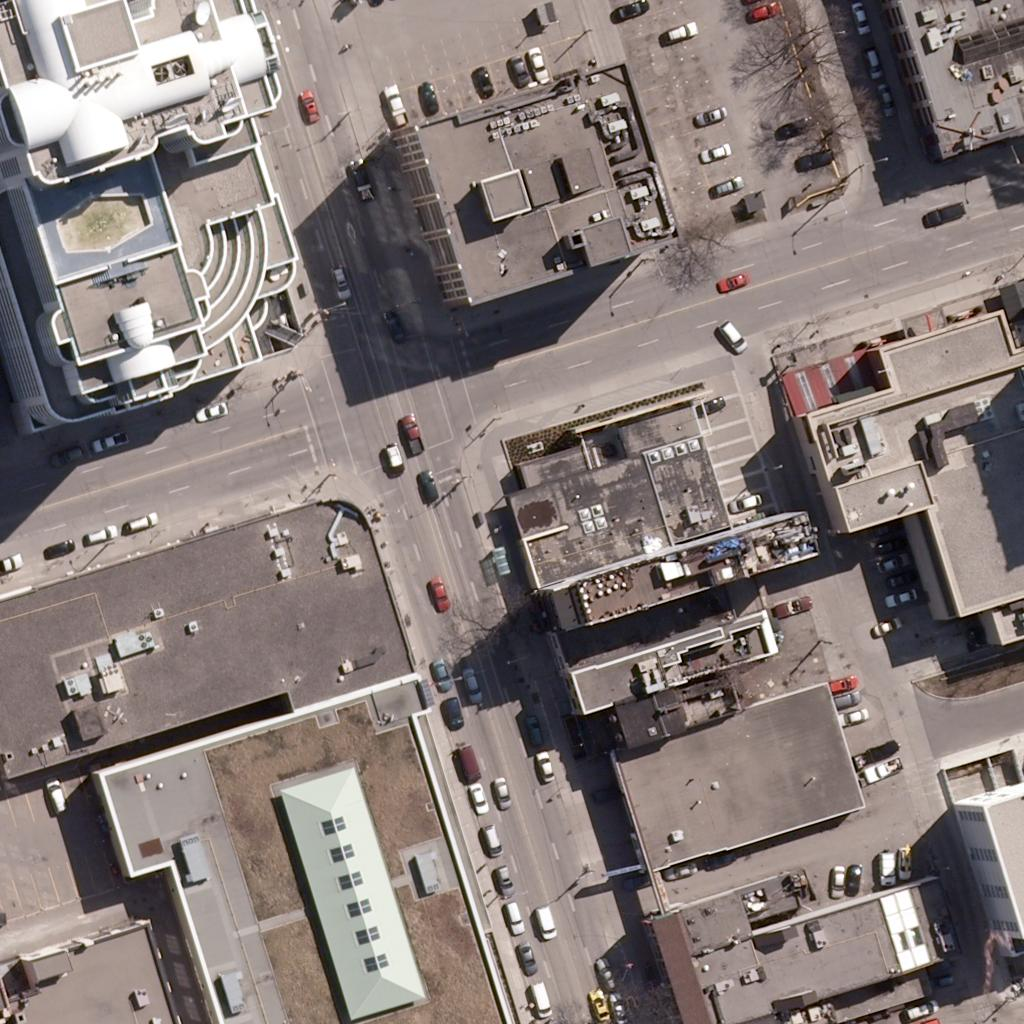car: (663, 15, 697, 49), (856, 42, 890, 76), (521, 43, 555, 77), (501, 52, 535, 86), (465, 60, 499, 94), (412, 78, 446, 112), (868, 81, 902, 115), (377, 84, 411, 118), (290, 88, 324, 122), (697, 98, 731, 132), (784, 108, 818, 142), (699, 134, 733, 168), (794, 144, 828, 178), (342, 158, 376, 192), (710, 168, 744, 202), (925, 197, 959, 231), (325, 263, 359, 297), (717, 263, 751, 297), (376, 309, 410, 343), (716, 318, 750, 352), (693, 388, 727, 422), (193, 394, 227, 428), (395, 414, 429, 448), (90, 425, 124, 459), (51, 437, 85, 471), (377, 442, 411, 476), (411, 464, 445, 498), (726, 485, 760, 519), (124, 504, 158, 538), (85, 515, 119, 549), (875, 527, 909, 561), (43, 529, 77, 563), (875, 546, 909, 580), (885, 563, 919, 597), (422, 576, 456, 610), (885, 579, 919, 613), (778, 585, 812, 619), (871, 609, 905, 643), (421, 654, 455, 688), (825, 666, 859, 700), (454, 668, 488, 702), (829, 681, 863, 715), (436, 697, 470, 731), (835, 699, 869, 733), (517, 715, 551, 749), (452, 748, 486, 782), (868, 750, 902, 784), (530, 751, 564, 785), (484, 775, 518, 809), (39, 777, 73, 811), (461, 781, 495, 815), (476, 824, 510, 858), (888, 843, 922, 877), (663, 851, 697, 885), (870, 851, 904, 885), (835, 859, 869, 893), (820, 860, 854, 894), (485, 861, 519, 895), (497, 900, 531, 934), (530, 907, 564, 941), (510, 940, 544, 974), (590, 955, 624, 989), (525, 985, 559, 1019), (584, 988, 618, 1022), (843, 0, 877, 33), (603, 992, 637, 1024), (901, 993, 935, 1024), (746, 0, 780, 28), (614, 0, 648, 25), (0, 548, 21, 582)
